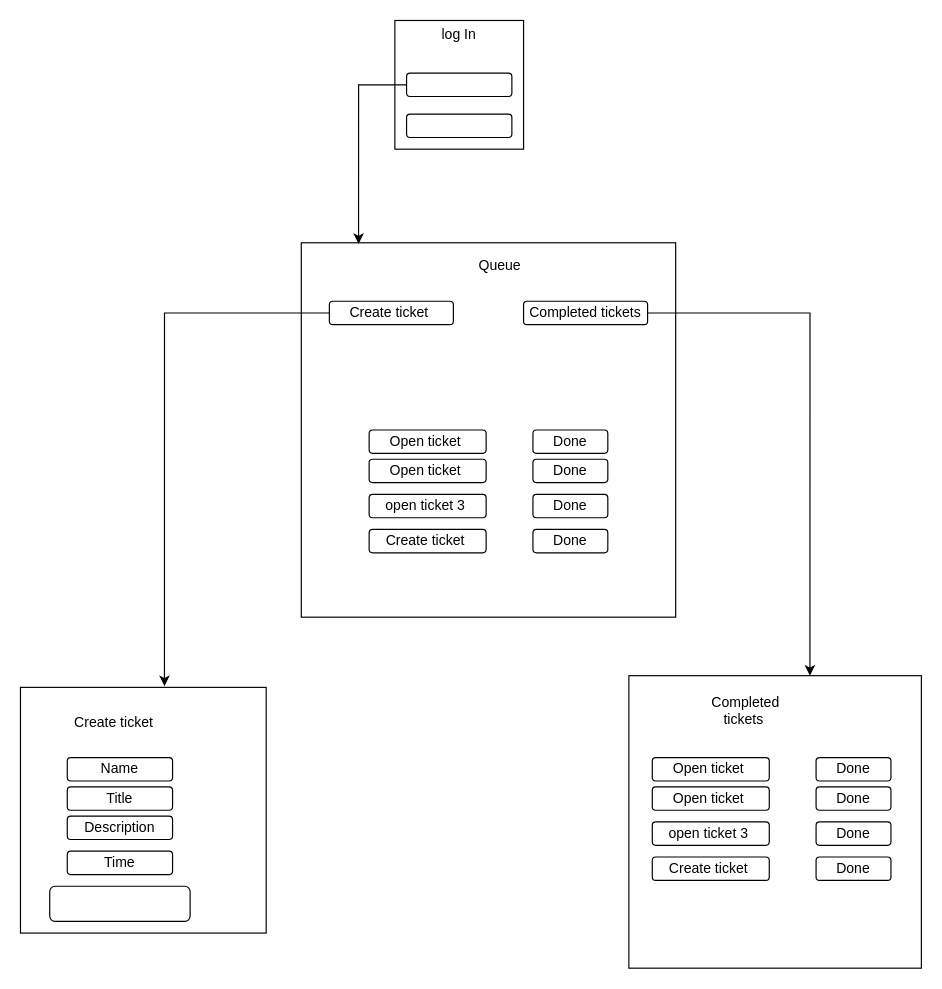
Image size: 942x989. Some labels were removed from this diagram. Each missing label, with the centre of its shape:
"Add" belongs at point 119,903.
"Trainee" belongs at point 458,84.
"Trainer" belongs at point 458,125.
